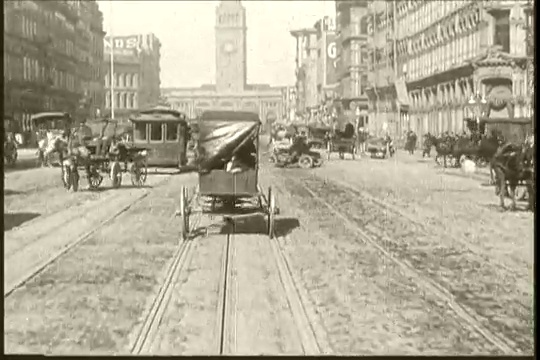car: (268, 128, 329, 175)
carriage: (171, 104, 282, 253), (37, 115, 150, 197), (413, 116, 522, 177), (465, 131, 540, 207), (317, 124, 363, 161)
trolley: (123, 105, 188, 175)
